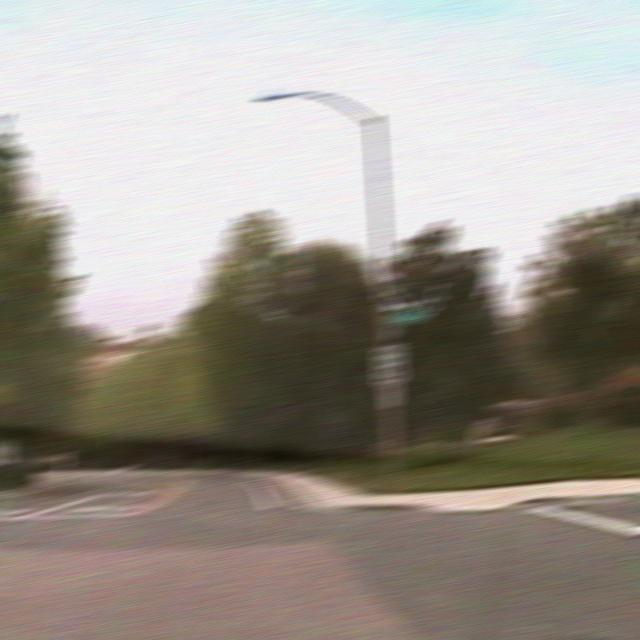speedLimit35: (374, 343, 405, 384)
